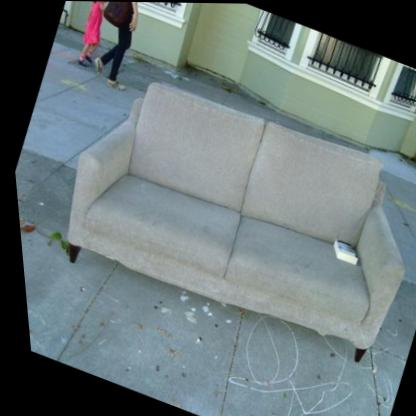Sofa: (28, 49, 416, 382)
